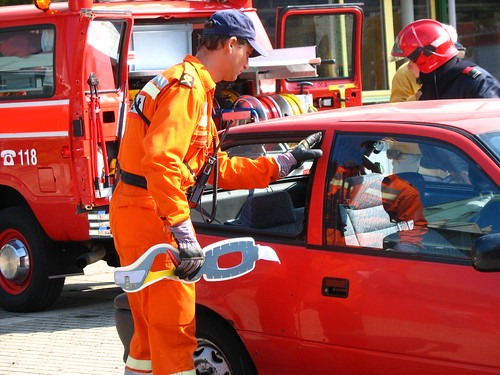car: (178, 108, 500, 375)
firefighter: (8, 1, 268, 306), (104, 24, 266, 375), (385, 21, 500, 102)
